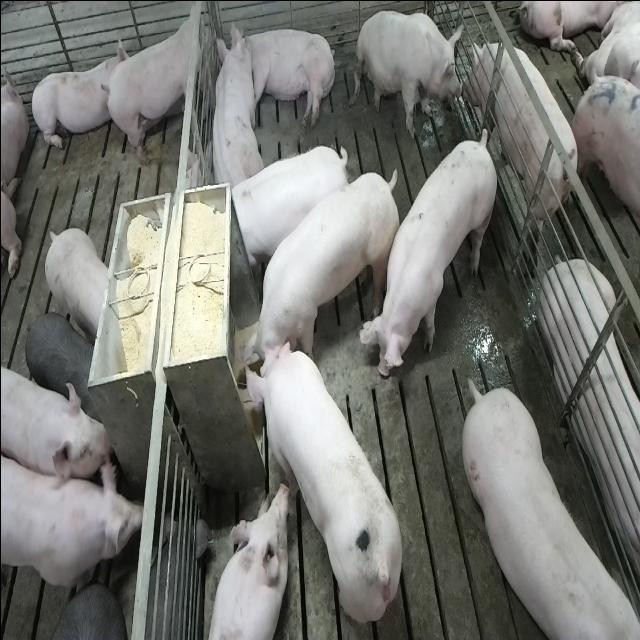Feeding: (239, 332, 404, 624), (235, 166, 402, 384)
Lateral_lying: (225, 22, 338, 128)
Sitting: (354, 8, 466, 138)
Standing: (464, 381, 640, 640), (358, 128, 498, 384), (464, 41, 578, 255), (2, 452, 142, 610), (100, 1, 211, 168), (225, 143, 351, 276), (3, 360, 113, 483), (570, 70, 640, 252), (25, 310, 104, 422), (43, 226, 109, 340), (36, 578, 124, 638)
Sternal_lying: (541, 260, 640, 601), (201, 481, 289, 640), (28, 37, 122, 155), (206, 28, 263, 192)
